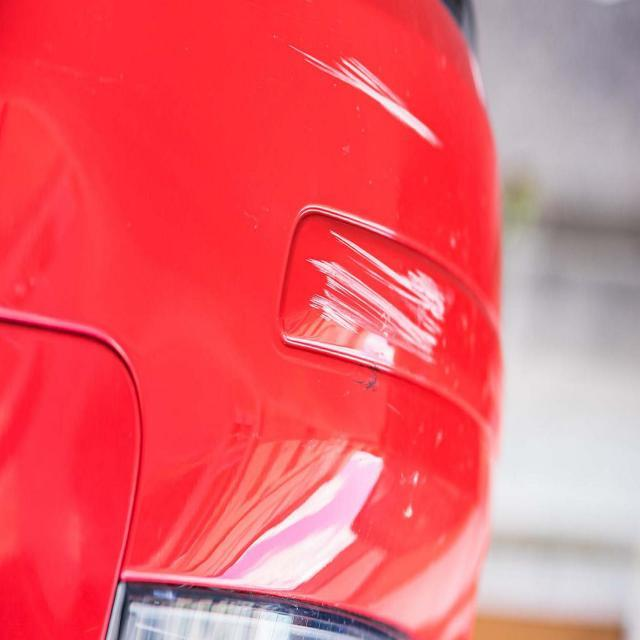scratch: (306, 209, 454, 369), (296, 34, 445, 152)
